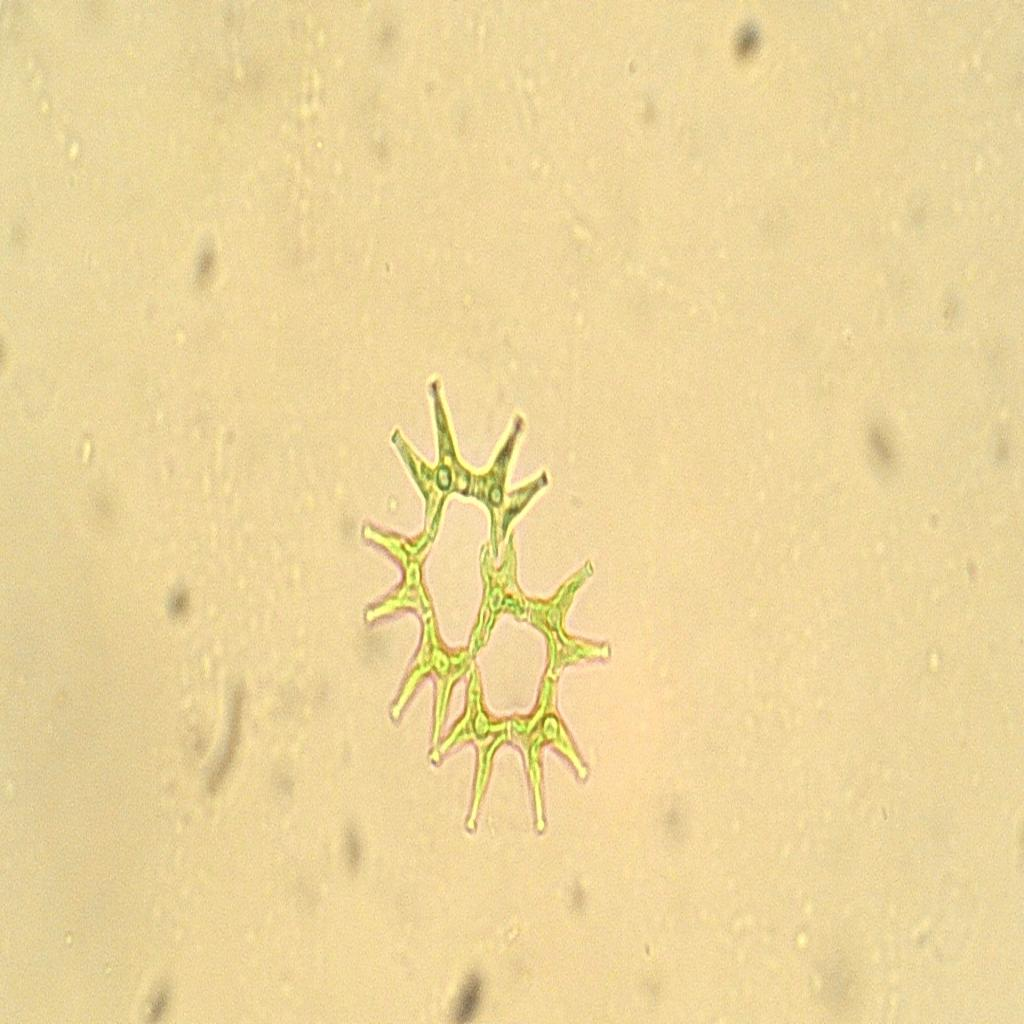Pediastrum_CFI: (343, 352, 634, 885)
